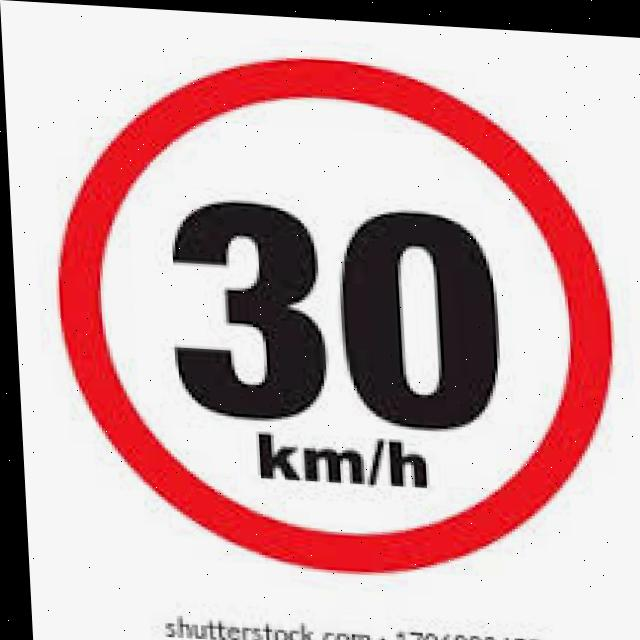Speed limit 30: (41, 36, 625, 584)
